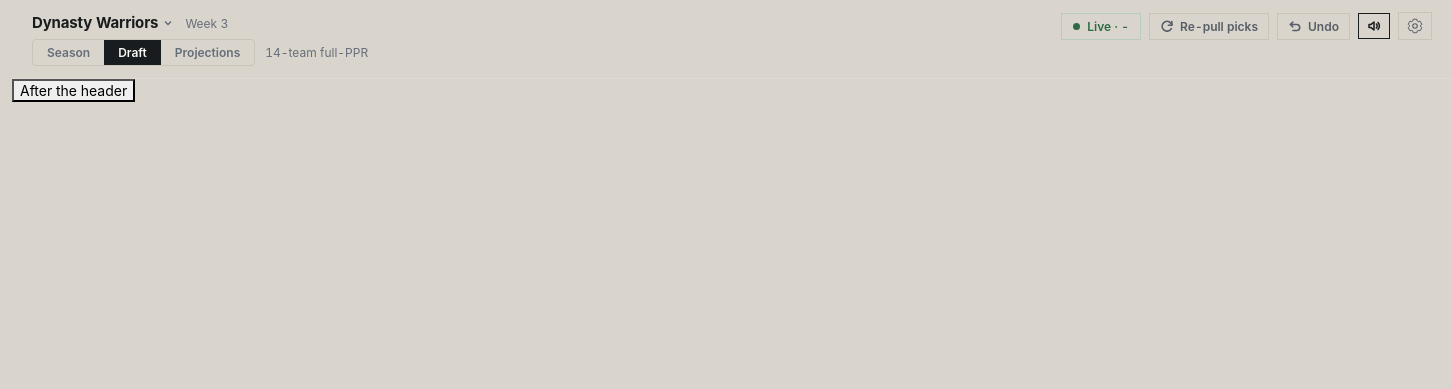
Test case: the settings menu › is a menu, and each setting says whether it is on
Click the button named "Settings".
click(1415, 26)  # box [1398,12,1432,40]
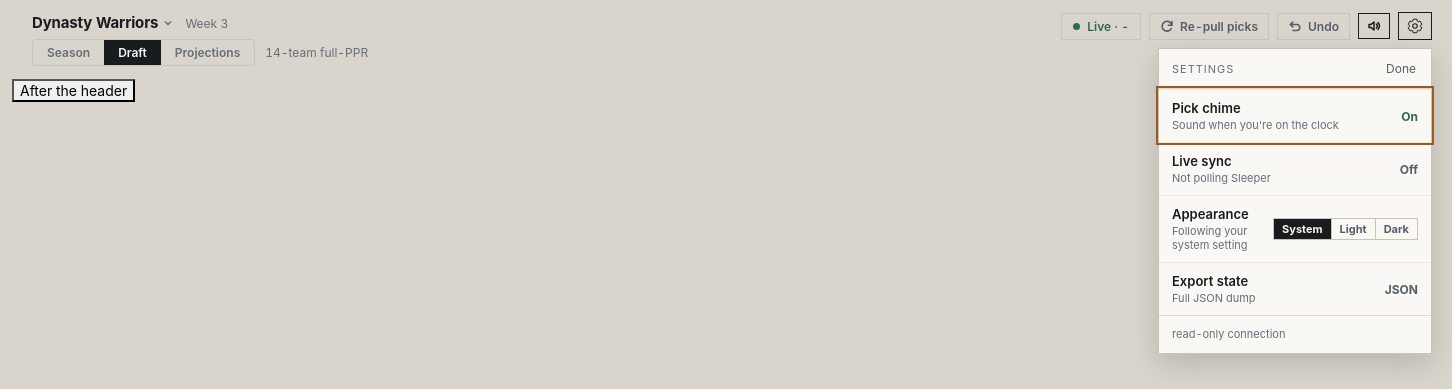
Result: the menu "Settings" is shown at [1158,48,1432,354]
Result: the button named "Settings" is expanded at [1398,12,1432,40]
